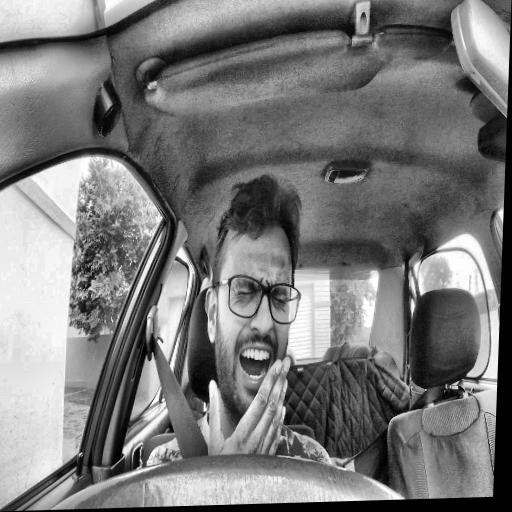drowsy: (200, 175, 304, 422)
